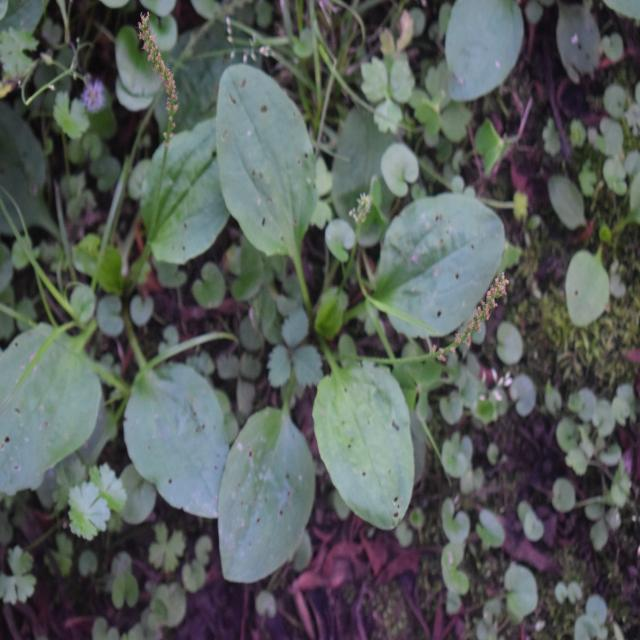plantain: (202, 69, 499, 543)
